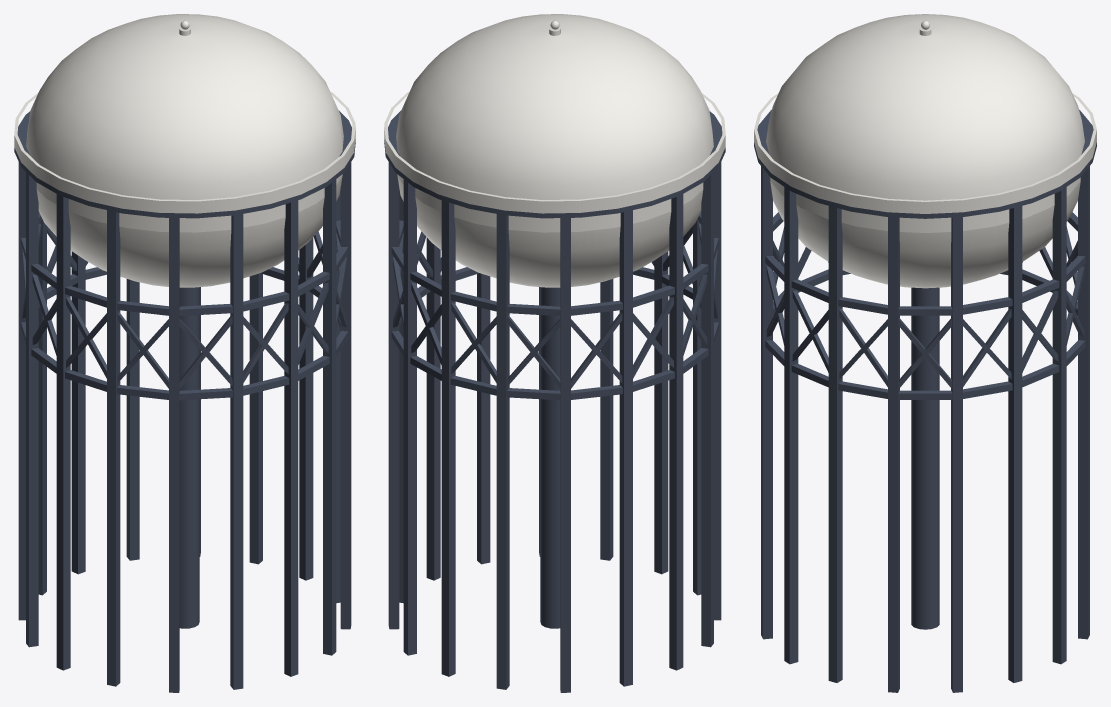
Rendered from elizabeth-water-tower.glb.
3 views of the same model, side by side, from view 1: azimuth 30°, elevation 25°; view 2: azimuth 150°, elevation 25°; view 3: azimuth 270°, elevation 25° (orthographic).
Parts seen in each view (by area): view 1: Elizabeth water tower; view 2: Elizabeth water tower; view 3: Elizabeth water tower.
Part boxes in pixels (<box>): Elizabeth water tower: <box>14,14,355,692</box>; Elizabeth water tower: <box>384,14,725,692</box>; Elizabeth water tower: <box>754,14,1096,692</box>.
Bounding box in the file's own units: 25.8 × 50 × 25.8.
